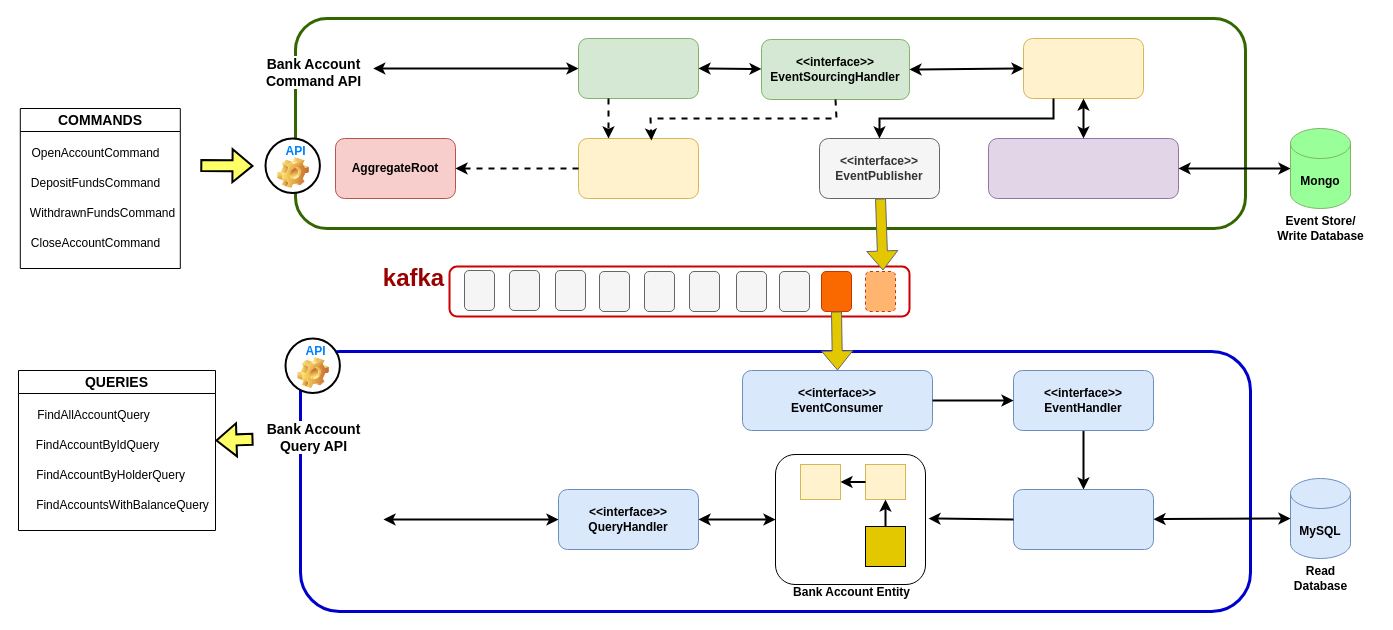
The diagram is 1393 pixels wide and 630 high, and some of its shapes have lost their labels. Each missing label, with the centre of its shape:
"<<interface>> AccountRepository" goes at pixel 1083 519.
"<<interface>> CommandHandler" goes at pixel 638 68.
"<<interface>> EventSoreRepository" goes at pixel 1083 168.
"<<interface>> EventStore" goes at pixel 1083 68.
"AccountAggregate" goes at pixel 638 168.
